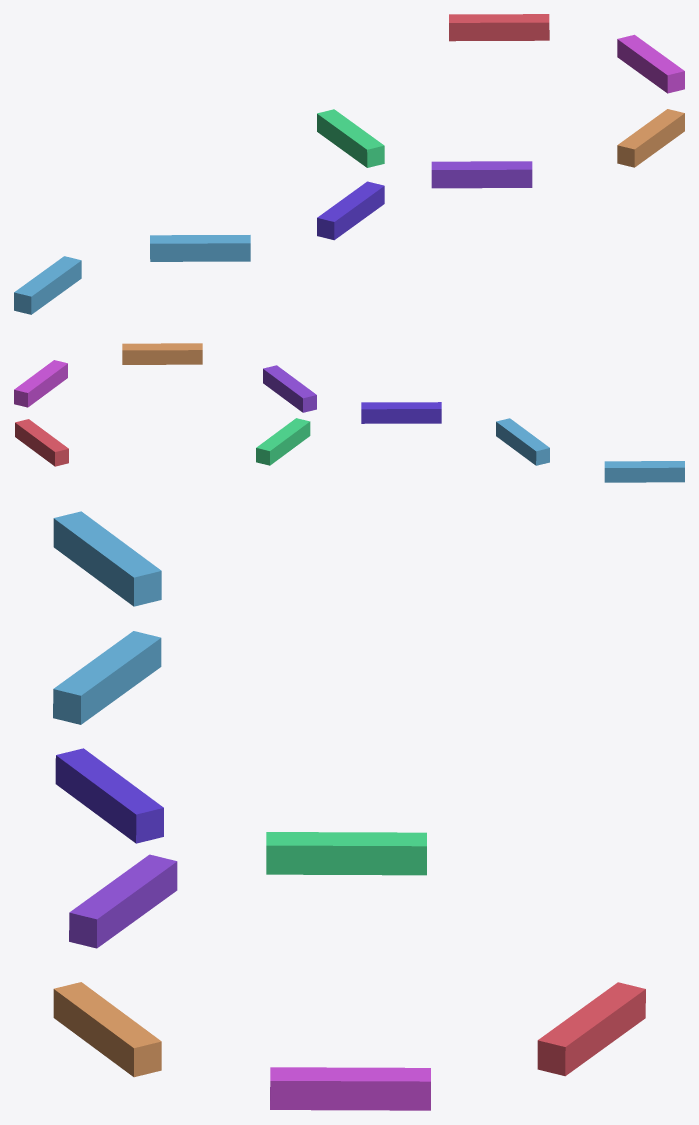
Rendered from roads7.dae.
3 renders of one model, top to bottom at view 1: azimuth 30°, elevation 25°; view 2: azimuth 150°, elevation 25°; view 3: azimuth 270°, elevation 25°, orthographic. The views are drawn at different scales.
Visible parts, largest first — view 1: road.048; view 2: road.048; view 3: road.048.
Part boxes in pixels (box(x1,y1,x2,y2)): road.048: box(14, 14, 684, 314); road.048: box(14, 343, 684, 482); road.048: box(53, 511, 645, 1110).
Bounding box in the file's own units: 4.19 × 1.84 × 0.1024.
